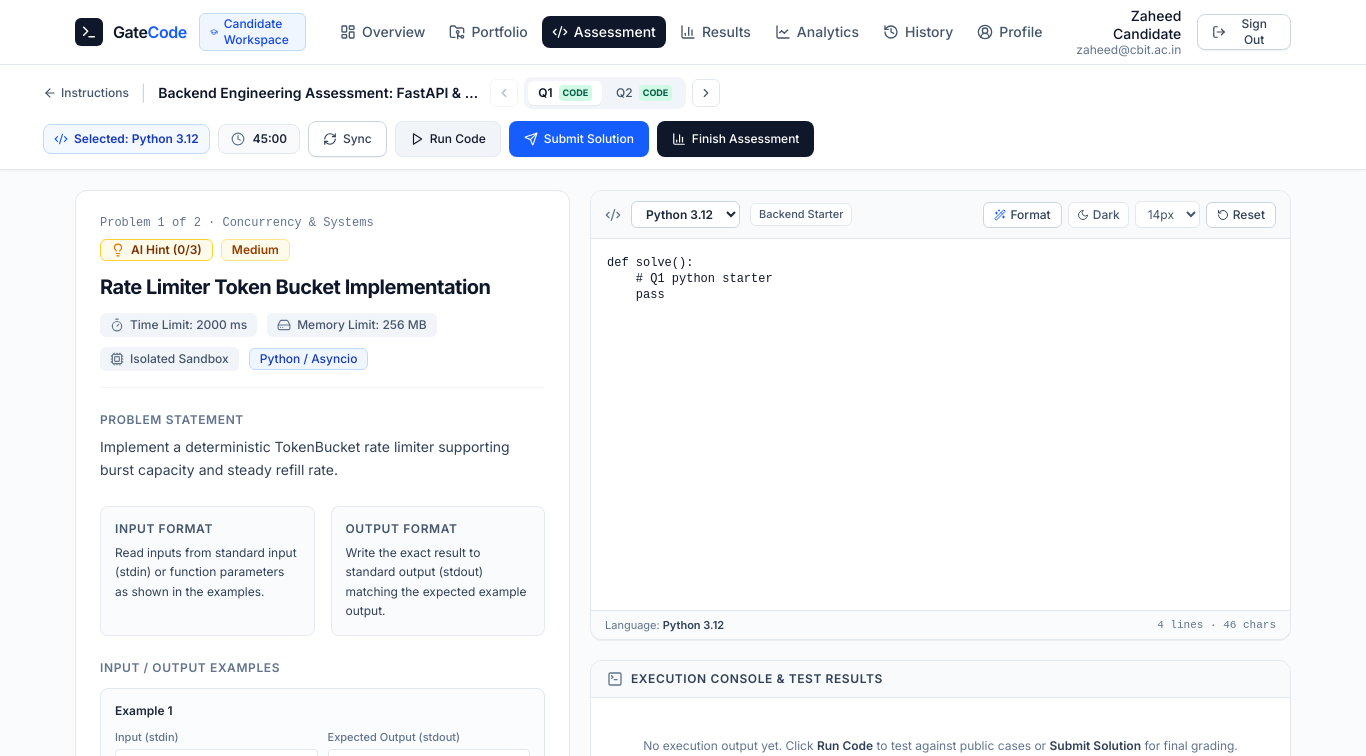
Test: Personalized Technical Assessment & Coding Workspace Frontend › displays execution status, stdout, stderr, public test case results, compilation errors (CE), and timeout messages (TLE) when running code
The image size is (1366, 756).
Expected: the heading "Rate Limiter Token Bucket Implementation" is shown, [100,273,545,301]
Click the button "Run Code": (448, 139) [395,121,501,157]
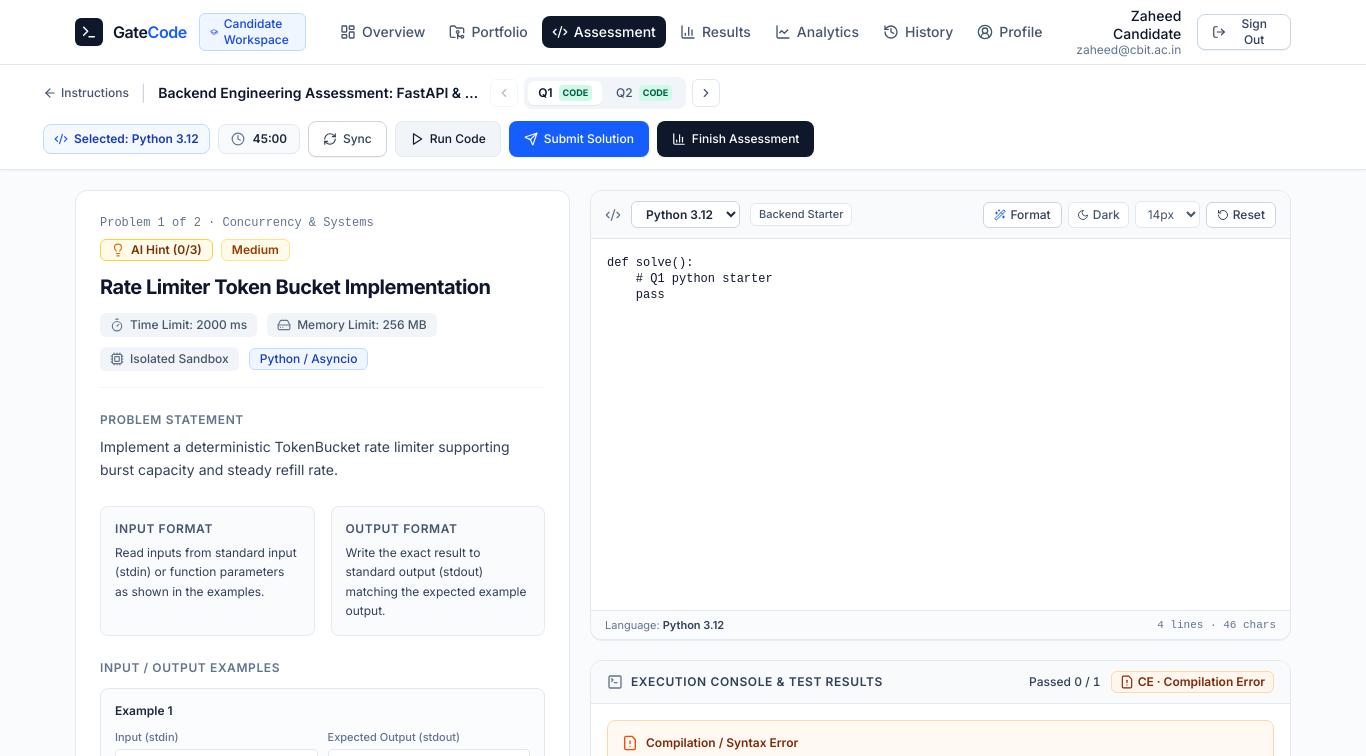
Expected: the text "Compilation / Syntax Error" is shown, [646,735,798,751]
Expected: the text "CE · Compilation Error" is shown, [1138,674,1265,690]
Click the button "Run Code": (448, 139) [395,121,501,157]
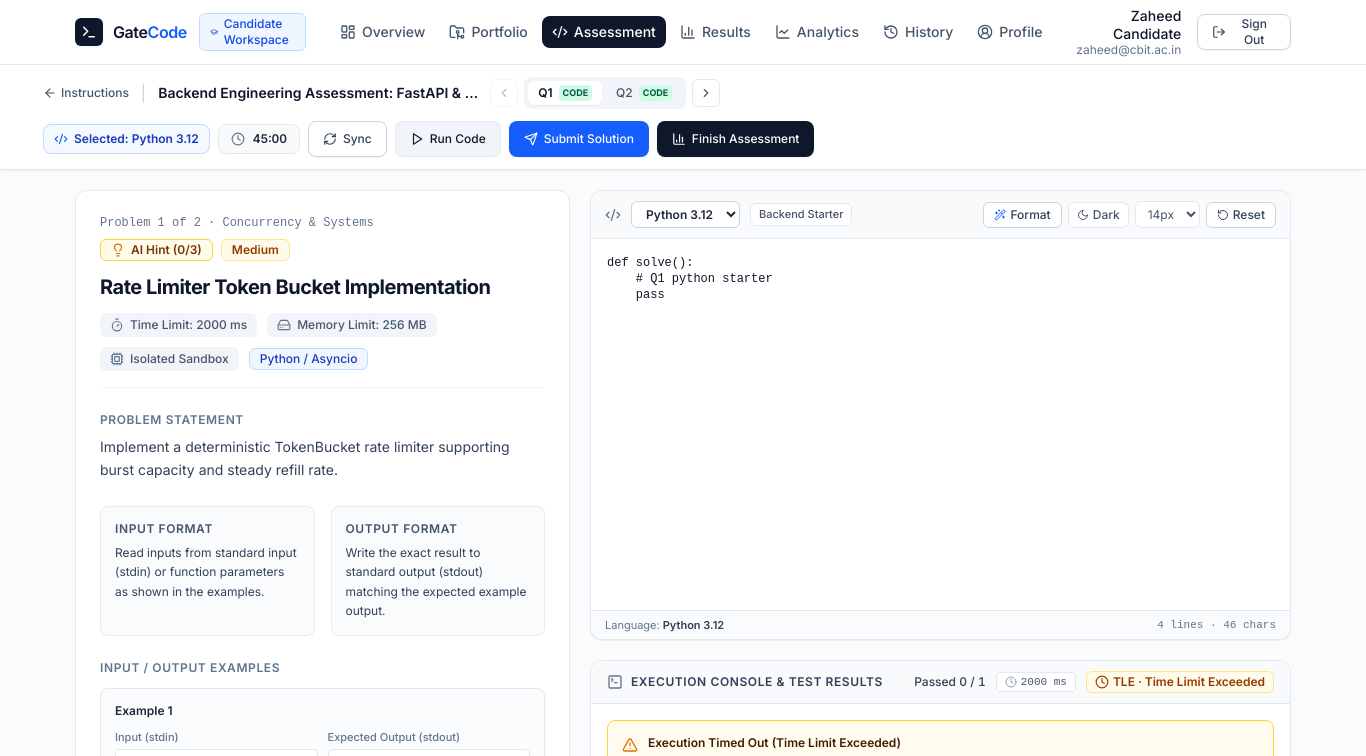
Expected: the text "Execution Timed Out (Time Limit Exceeded)" is shown, [648,735,901,750]
Click the button "Run Code": (448, 139) [395,121,501,157]
(page scrolled)
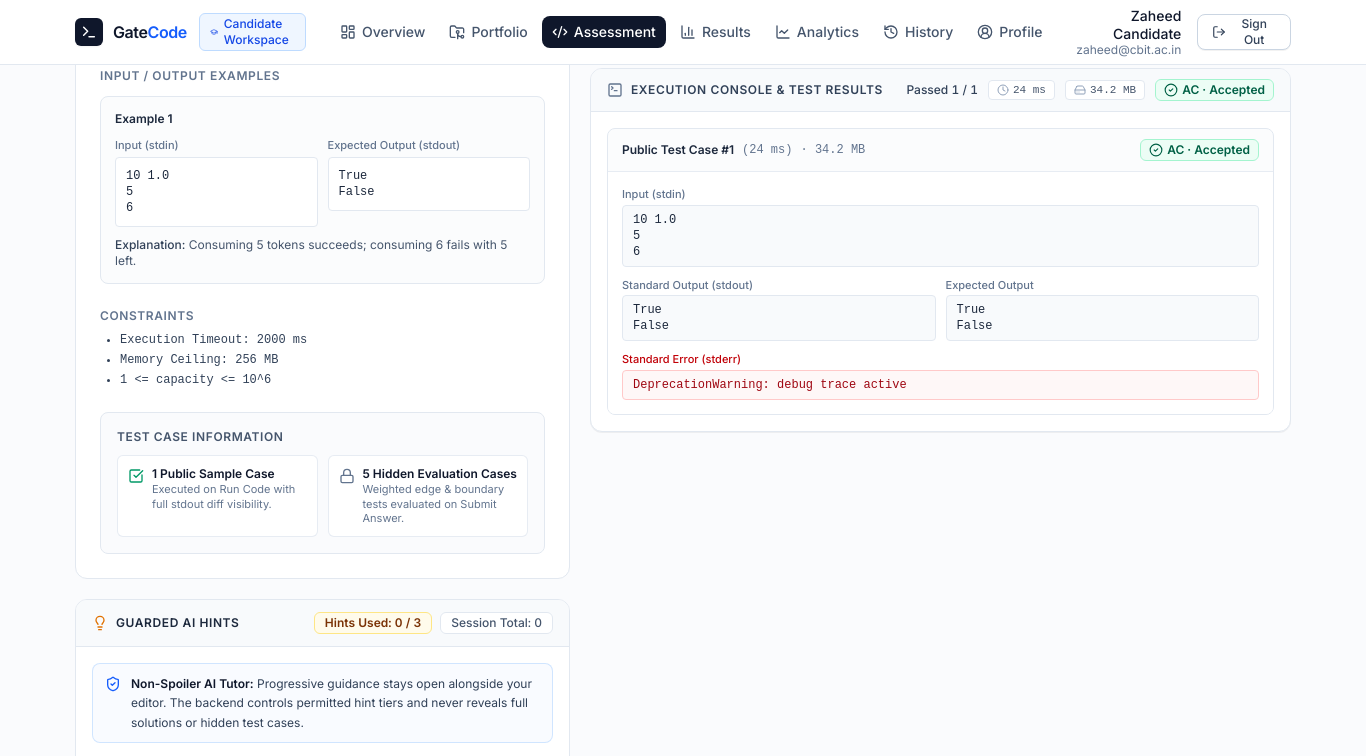
Expected: the text "Passed 1 / 1" is shown, [906,82,978,98]
Expected: the text "24 ms" is shown, [1013,83,1046,97]
Expected: the text "34.2 MB" is shown, [1090,83,1136,97]
